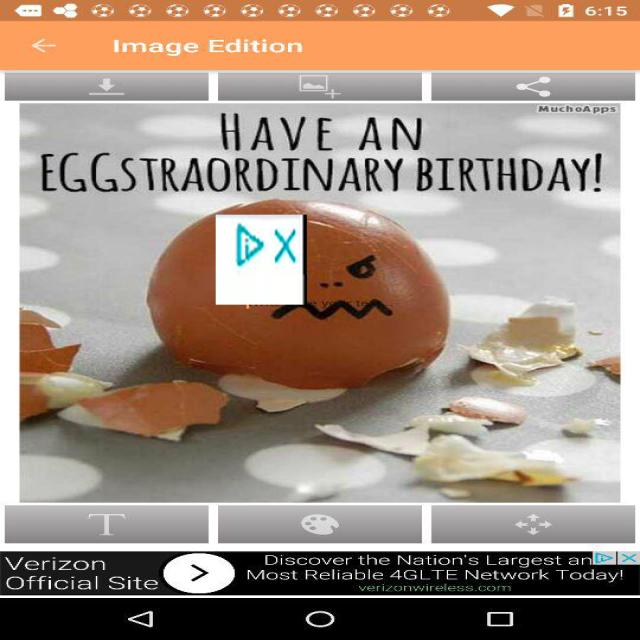sneaking: (216, 214, 307, 304)
